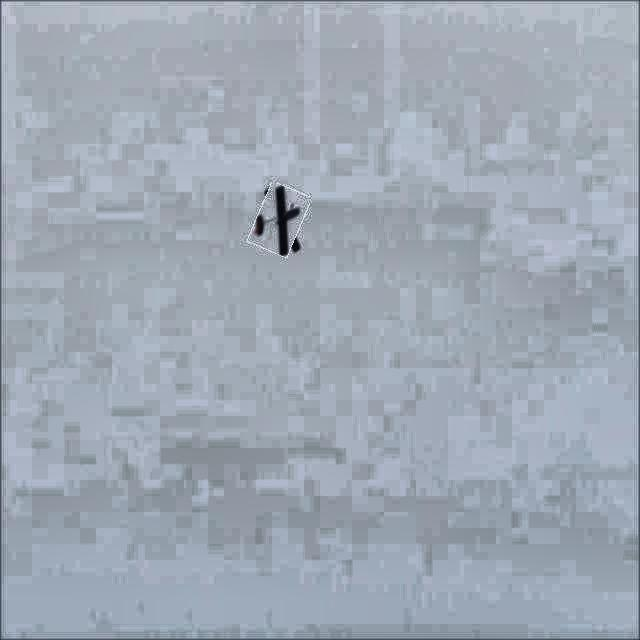iha: (280, 225, 284, 229)
